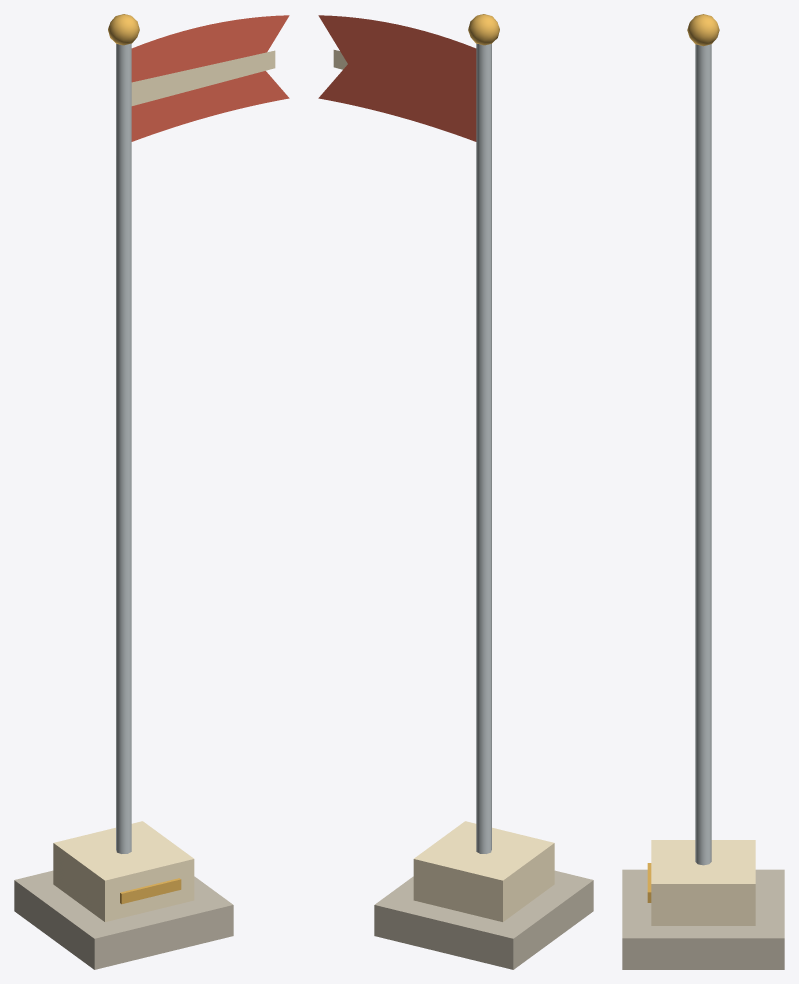
The model's file is deco_flagpole.glb.
The picture shows the model from 3 angles, left to right: view 1: azimuth 30°, elevation 25°; view 2: azimuth 150°, elevation 25°; view 3: azimuth 270°, elevation 25°; orthographic projection.
Visible parts, largest first — view 1: deco_flagpole; view 2: deco_flagpole; view 3: deco_flagpole.
Boxes of the visible parts, x1,y1,x2,y2 form: deco_flagpole: (14, 14, 289, 969); deco_flagpole: (318, 14, 593, 969); deco_flagpole: (622, 14, 784, 969).
Bounding box in the file's own units: 2.37 × 8.74 × 1.4.
